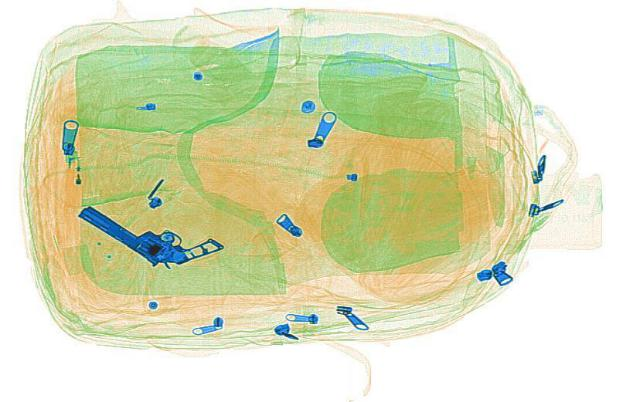Gun: (74, 184, 226, 274)
